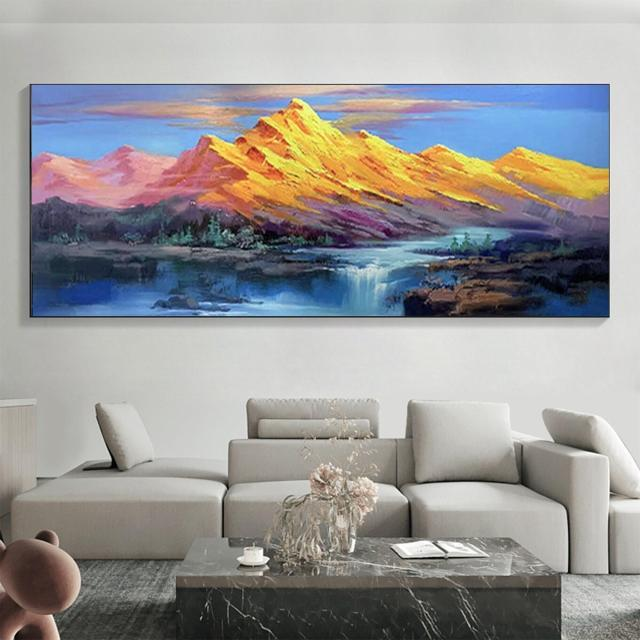painting: (30, 84, 608, 316)
